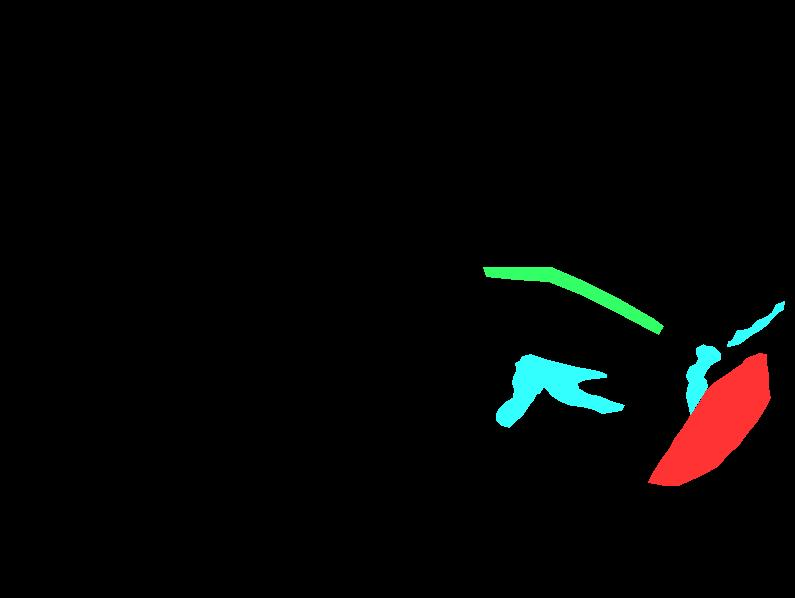Broken part: (483, 267, 663, 334)
Flaking: (496, 354, 624, 427), (727, 301, 784, 346), (686, 344, 720, 414)
Missing part: (648, 353, 770, 485)
